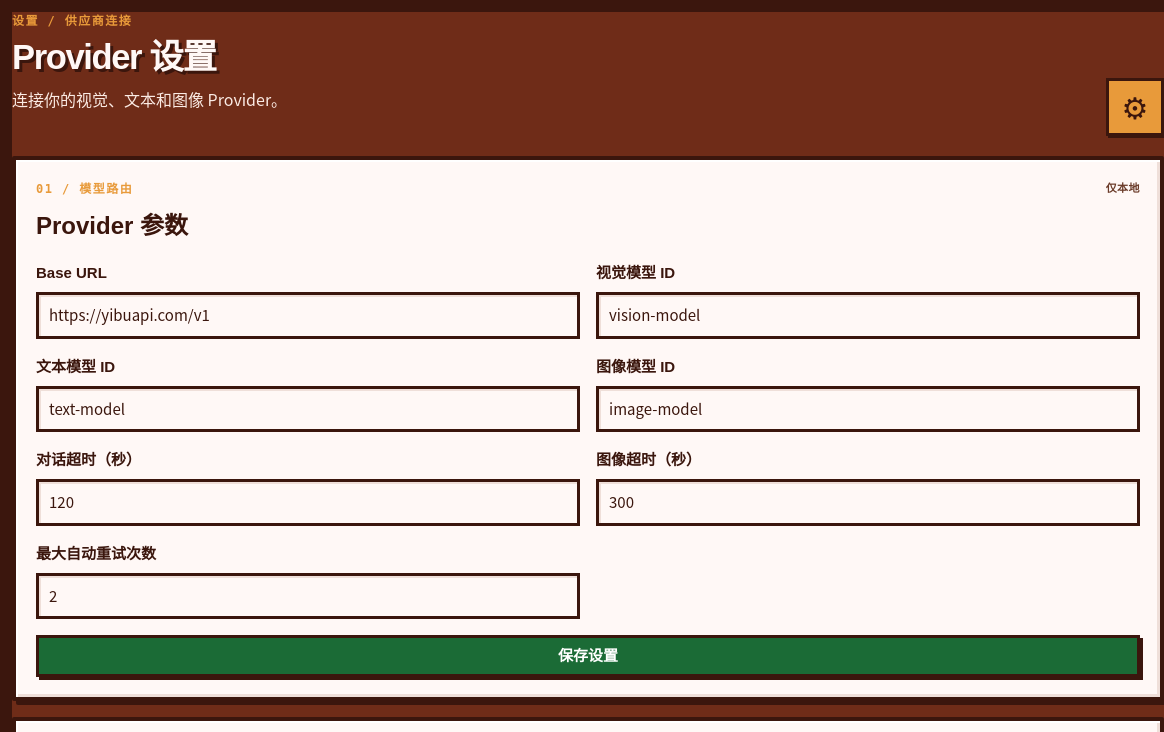
settings page › saves settings via PUT and shows a success message
The width and height of the screenshot is (1164, 732).
Expected: the field showing "https://yibuapi.com/v1" is shown, left=36, top=292, right=580, bottom=339
Click the button "保存设置". click: (588, 656)
box: left=36, top=635, right=1140, bottom=677
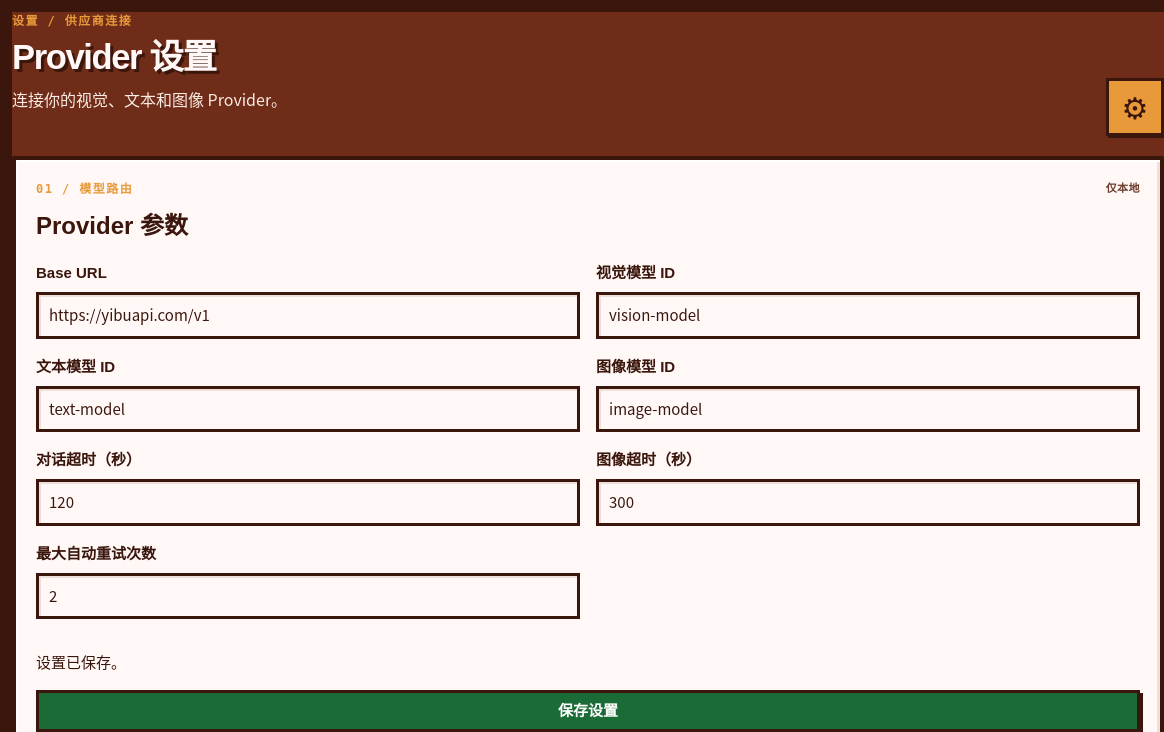
Now the text "设置已保存。" is shown, box left=36, top=651, right=126, bottom=672
